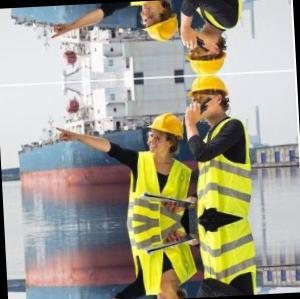helmet: (143, 106, 189, 160), (137, 1, 184, 50), (185, 74, 235, 118), (183, 32, 233, 76), (152, 284, 197, 299)
